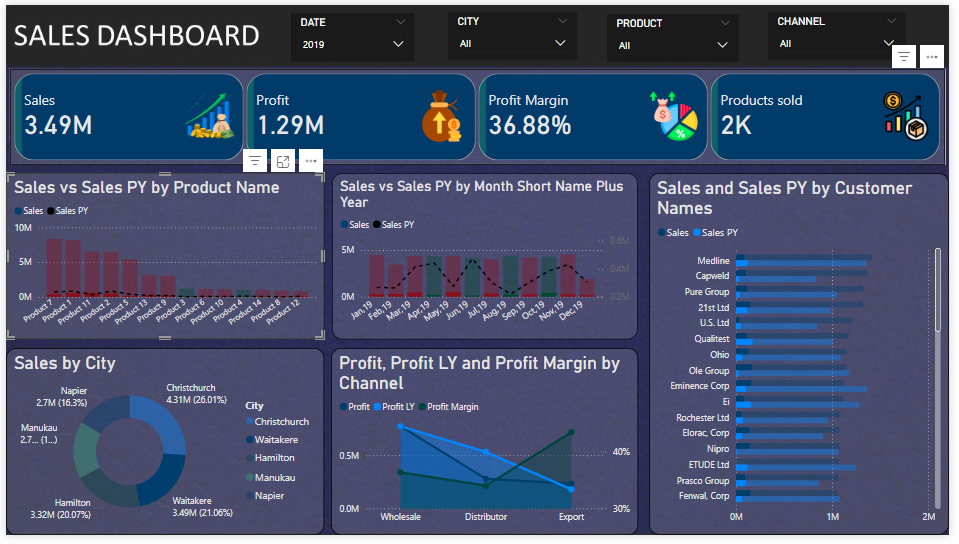

This screenshot's page, from the dashboard's own definition file:
{"tool":"powerbi","page":{"name":"Page 1","canvas":[1280,720],"ordinal":0},"visuals":[{"type":"slicer","fields":{"Values":["DateTable.Year","DateTable.Month Short Name Plus Year"]},"box":[386.8,10.6,168,66.2],"z":0},{"type":"slicer","fields":{"Values":["Regions_Table.City"]},"box":[600,10.1,174.9,65.1],"z":1000},{"type":"slicer","fields":{"Values":["Products_Data.Product Name"]},"box":[815.4,11.6,179.3,65.1],"z":2000},{"type":"slicer","fields":{"Values":["Sales_Data.Channel"]},"box":[1033.7,10.1,186.5,65.1],"z":3000},{"type":"lineClusteredColumnComboChart","title":"Sales vs Sales PY by Month Short Name Plus Year","fields":{"Y":["Measure Table.sales"],"Y2":["Measure Table.Sales PY"],"Category":["DateTable.Month Short Name Plus Year"]},"box":[442.4,228.3,415.2,226],"z":4000},{"type":"lineClusteredColumnComboChart","title":"Sales vs Sales PY by Product Name","fields":{"Y":["Measure Table.sales"],"Y2":["Measure Table.Sales PY"],"Category":["Products_Data.Product Name"]},"box":[0,228,431.6,225.3],"z":5000},{"type":"donutChart","title":"Sales by City","fields":{"Y":["Measure Table.sales"],"Category":["Regions_Table.City"]},"box":[0,465.6,431.6,253.8],"z":6000},{"type":"areaChart","fields":{"Category":["Sales_Data.Channel"],"Y":["Measure Table.Profit","Measure Table.Profit LY"],"Y2":["Measure Table.Profit Margin"]},"box":[441.1,465.6,416.7,253.8],"z":7000},{"type":"clusteredBarChart","fields":{"Y":["Measure Table.sales","Measure Table.Sales PY"],"Category":["Customer_Data.Customer Names"]},"box":[872.8,228,407.2,491.4],"z":8000},{"type":"cardVisual","fields":{"Data":["Measure Table.sales","Measure Table.Profit","Measure Table.Profit Margin","Measure Table.Products sold"]},"box":[5.2,86.5,1269.7,130.3],"z":9000}]}

Visuals, with their boxes in screenshot pixels (x1, y1, x2, y2), scaled from the page's 1280x720 canvas onto the 959x544 screenshot:
slicer - DateTable.Year x DateTable.Month Short Name Plus Year: l=290, t=8, r=416, b=58
slicer - Regions_Table.City: l=450, t=8, r=581, b=57
slicer - Products_Data.Product Name: l=611, t=9, r=745, b=58
slicer - Sales_Data.Channel: l=774, t=8, r=914, b=57
"Sales vs Sales PY by Month Short Name Plus Year" lineClusteredColumnComboChart: l=331, t=172, r=643, b=343
"Sales vs Sales PY by Product Name" lineClusteredColumnComboChart: l=0, t=172, r=323, b=342
"Sales by City" donutChart: l=0, t=352, r=323, b=543
areaChart - Sales_Data.Channel x Measure Table.Profit: l=330, t=352, r=643, b=543
clusteredBarChart - Measure Table.sales x Measure Table.Sales PY: l=654, t=172, r=958, b=543
cardVisual - Measure Table.sales x Measure Table.Profit: l=4, t=65, r=955, b=164
